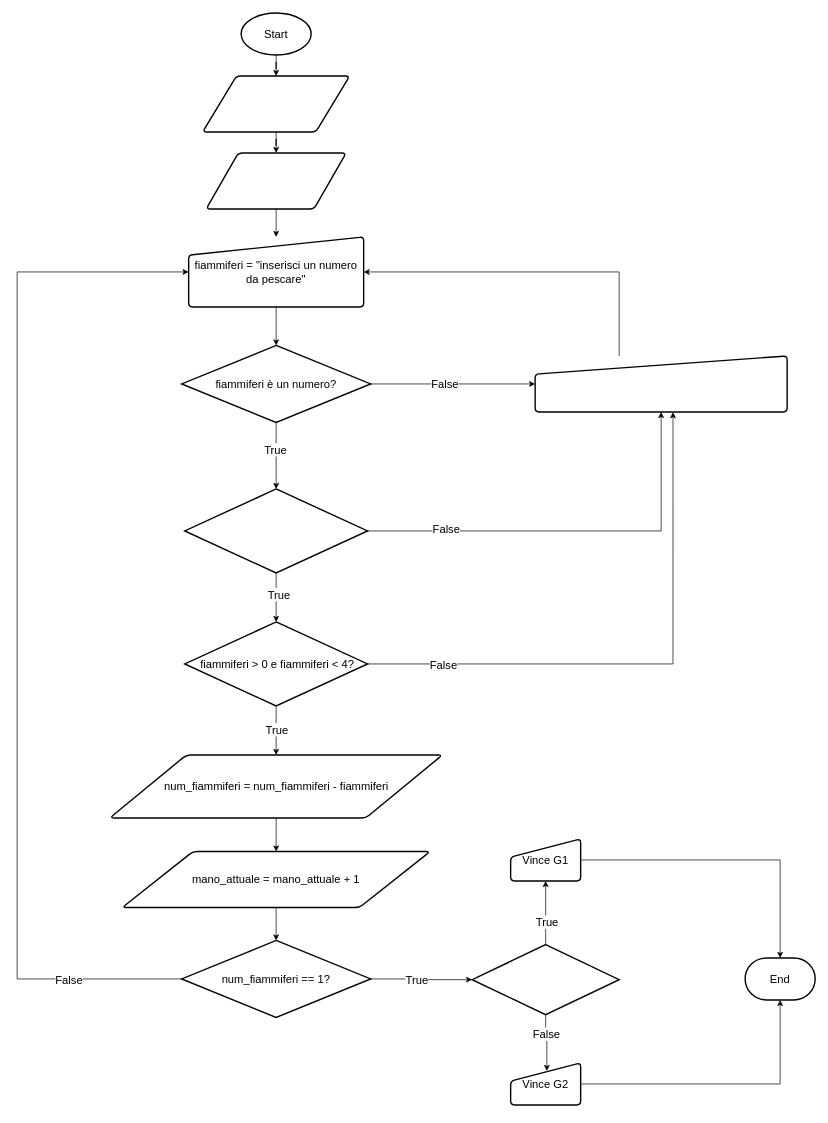
This 828x1123 diagram has some shape labels left out. The shapes that lost their labels are listed below. From the top down, each one's centre as x and y in pixels, then its label:
point (276, 103): num_fiammiferi = 11
point (275, 180): mano_attuale = 1
point (661, 383): "Inserisci un valore numerico corretto"
point (276, 530): fiammiferi < num_fiammiferi?
point (545, 979): mano_attuale è pari?
